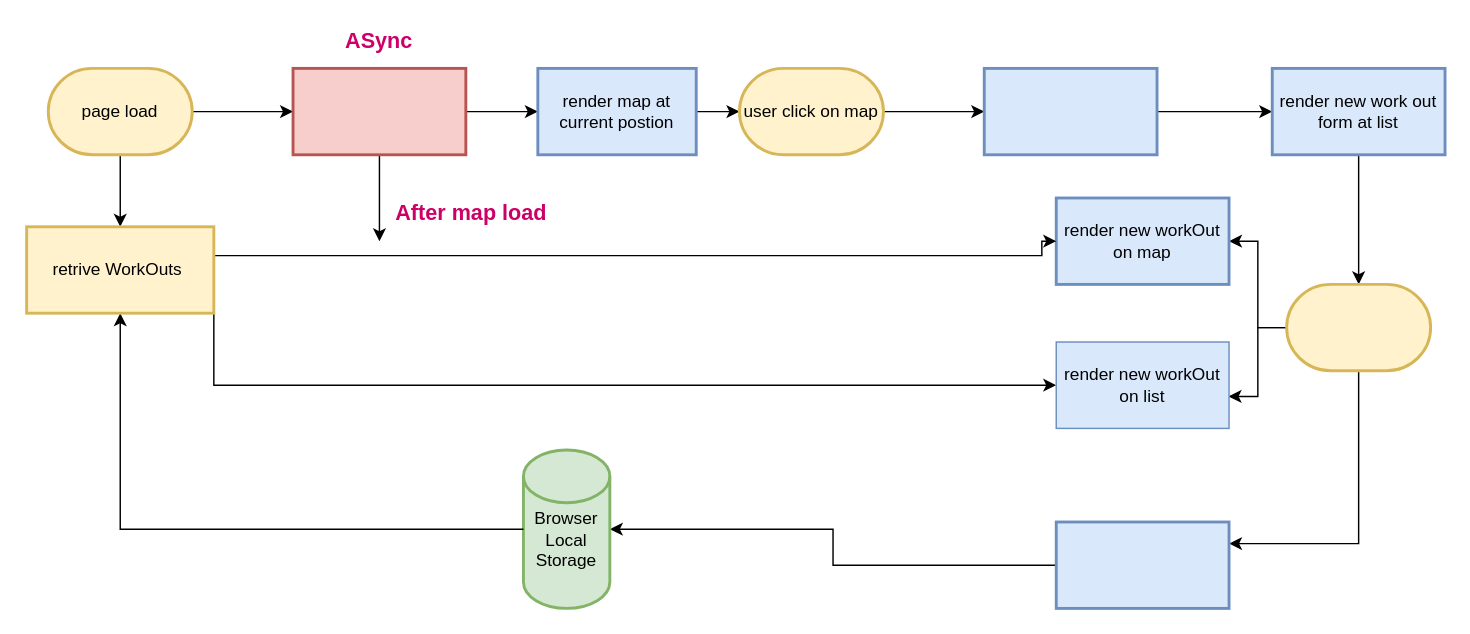
The diagram is 1470 pixels wide and 634 high, and some of its shapes have lost their labels. The centre of each missing label's shape, as x and y in pixels:
Get current location coordinates: the point at 379,111
render workout on map: the point at 1070,111
store workout Data: the point at 1142,564
user submit click: the point at 1357,327
